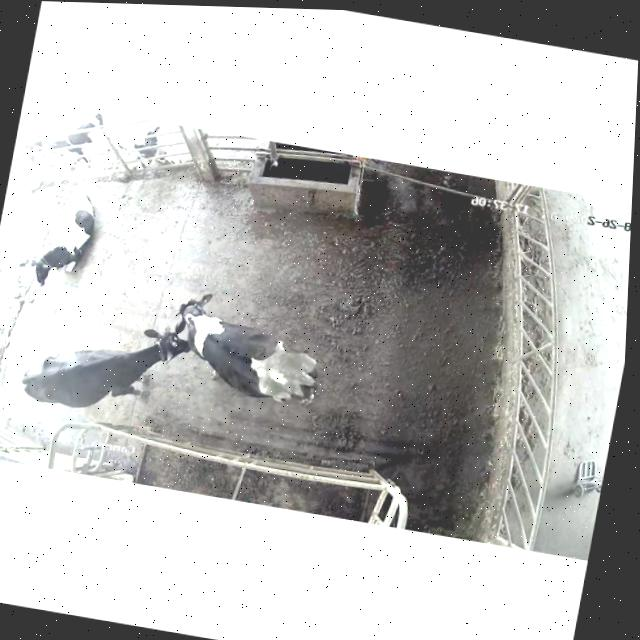stand: (176, 293, 319, 404), (22, 327, 189, 407)
